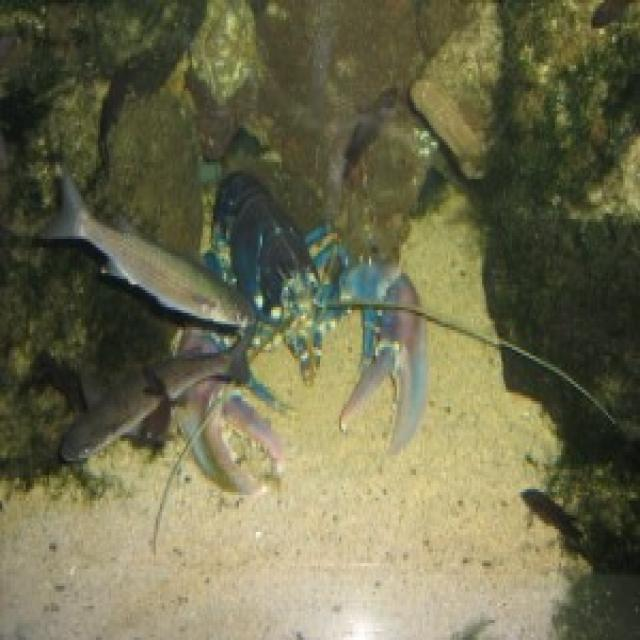lobsters: (69, 169, 475, 483)
